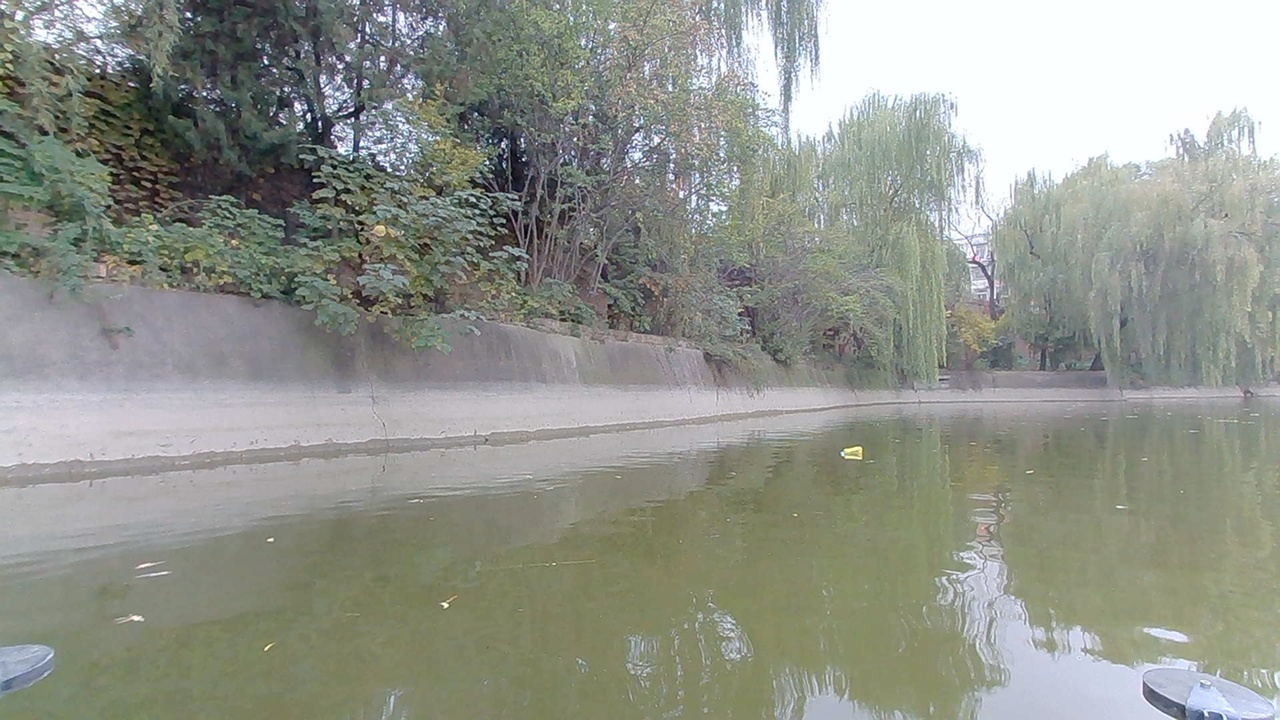bottle: (838, 442, 872, 465)
